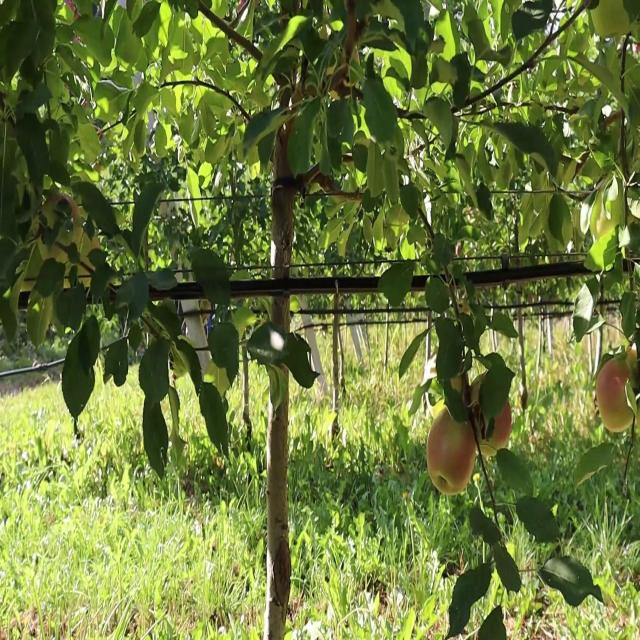apple: (428, 412, 479, 482), (600, 362, 635, 437), (596, 355, 632, 420), (596, 0, 631, 43), (436, 463, 475, 500), (488, 405, 513, 452), (600, 405, 635, 437), (344, 7, 362, 53), (624, 341, 640, 389)
